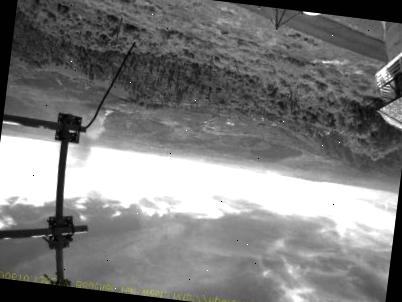smoke: (67, 103, 114, 172)
